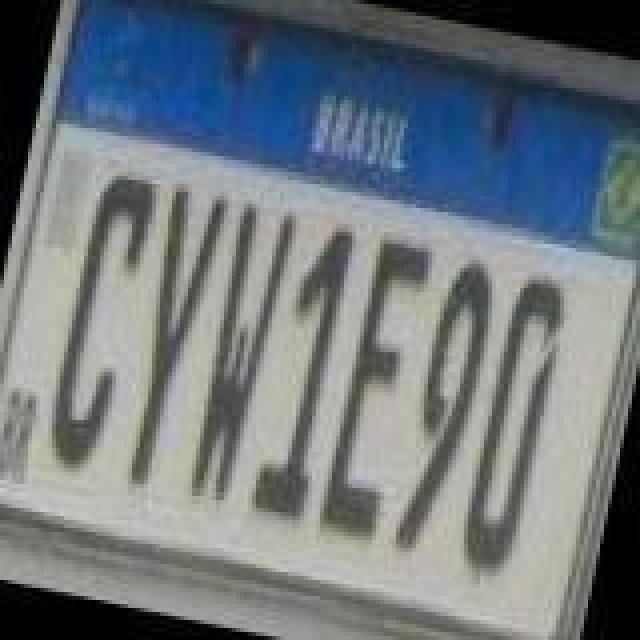1: (246, 216, 362, 520)
9: (390, 254, 506, 562)
C: (36, 164, 156, 476)
D: (452, 270, 572, 578)
E: (316, 238, 436, 546)
W: (180, 196, 300, 508)
Y: (108, 184, 228, 496)
